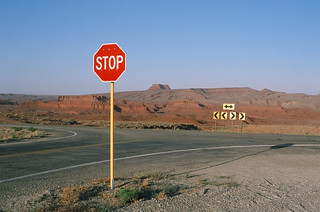StopSign: (92, 42, 126, 82)
